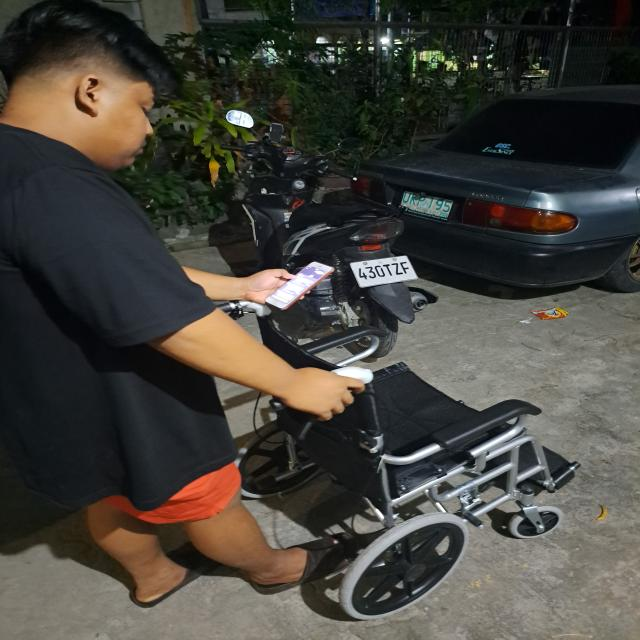wheelchairs: (222, 299, 594, 612)
